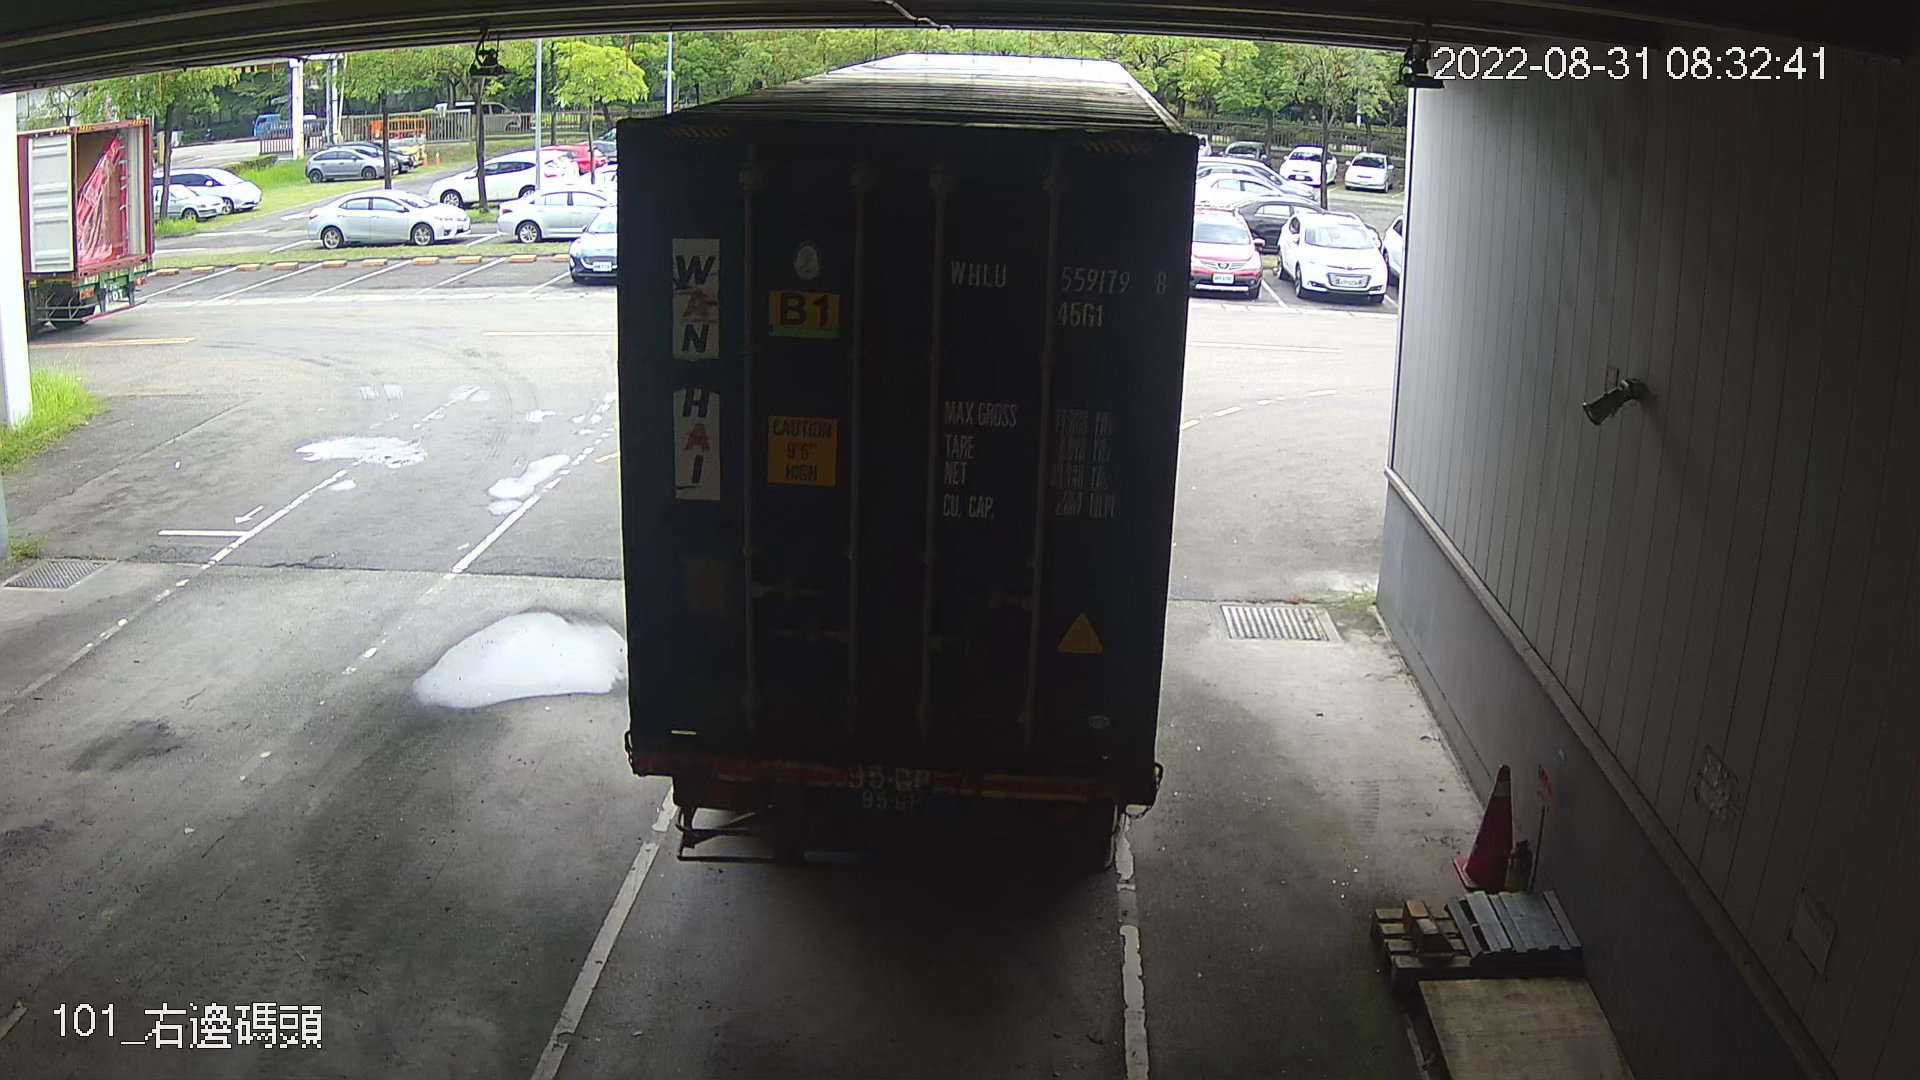container: (942, 244, 1178, 338)
